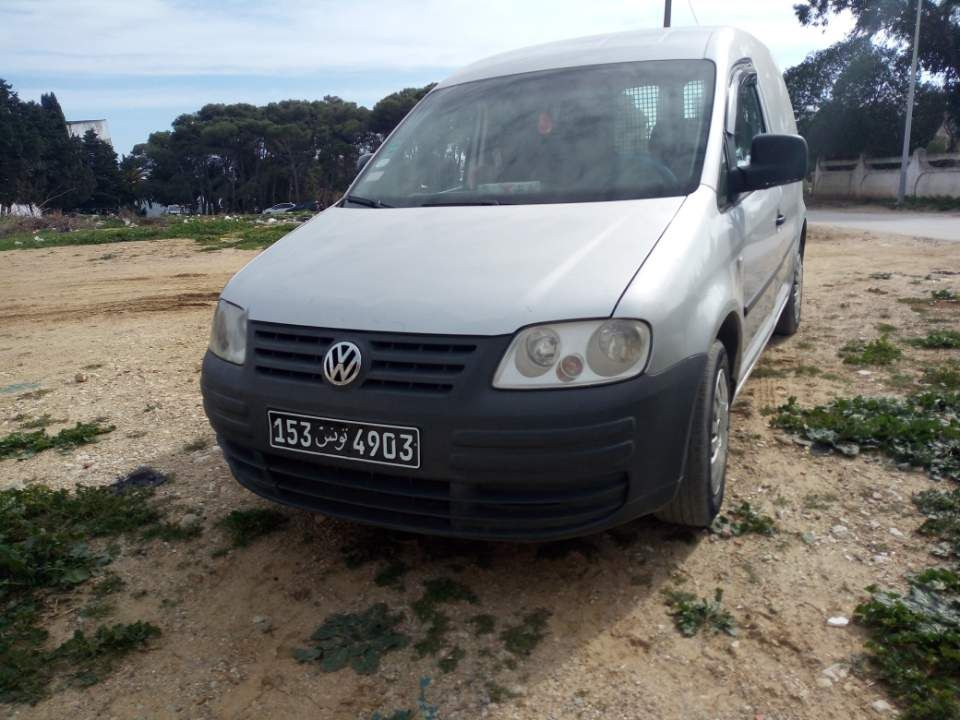LP: (264, 408, 421, 471)
